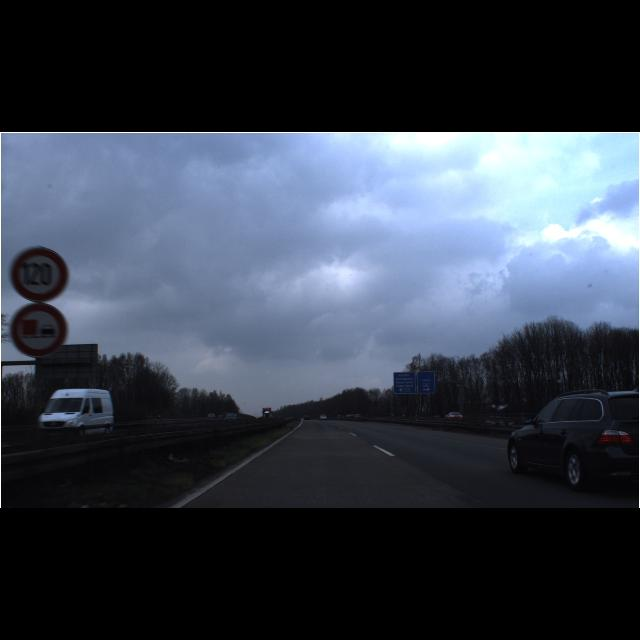prohibitory: (10, 246, 68, 302), (11, 302, 67, 358)
